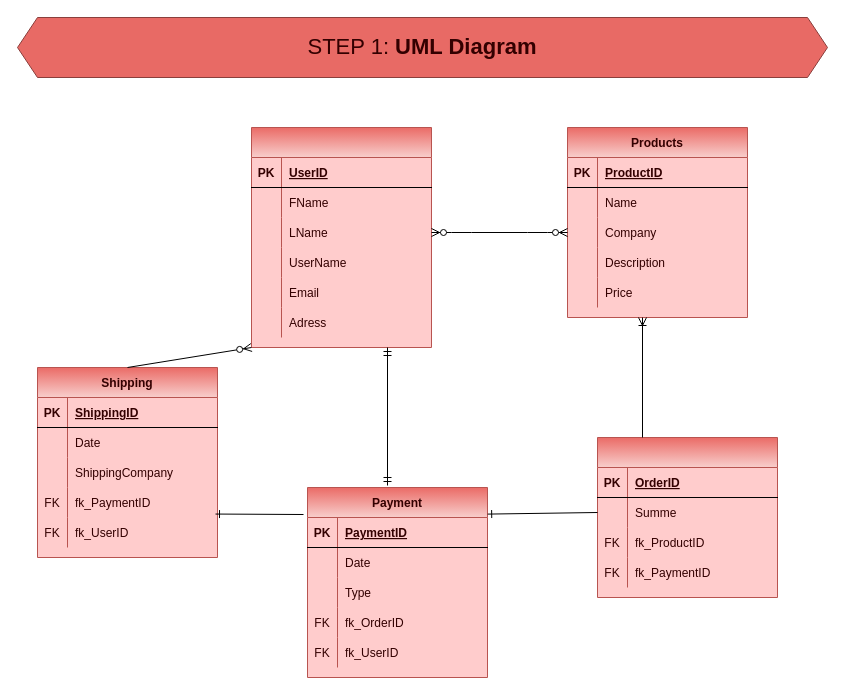
This 845x695 diagram has some shape labels left out. The shapes that lost their labels are listed below. From the top down, each one's box as (x1, y1, x2, y2) in pixels, then its label:
(250, 126, 432, 348): Users
(596, 436, 778, 598): Orders
